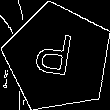P_S: (35, 30, 80, 86)
